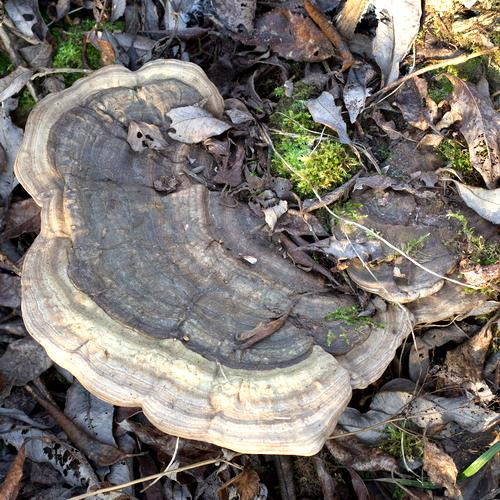Ganoderma - Fruit Body: (21, 56, 406, 456)
